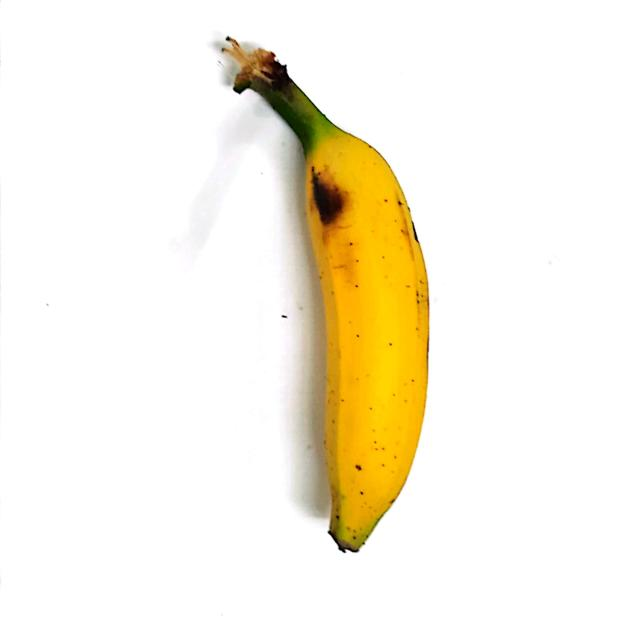fresh_banana: (310, 138, 426, 549)
